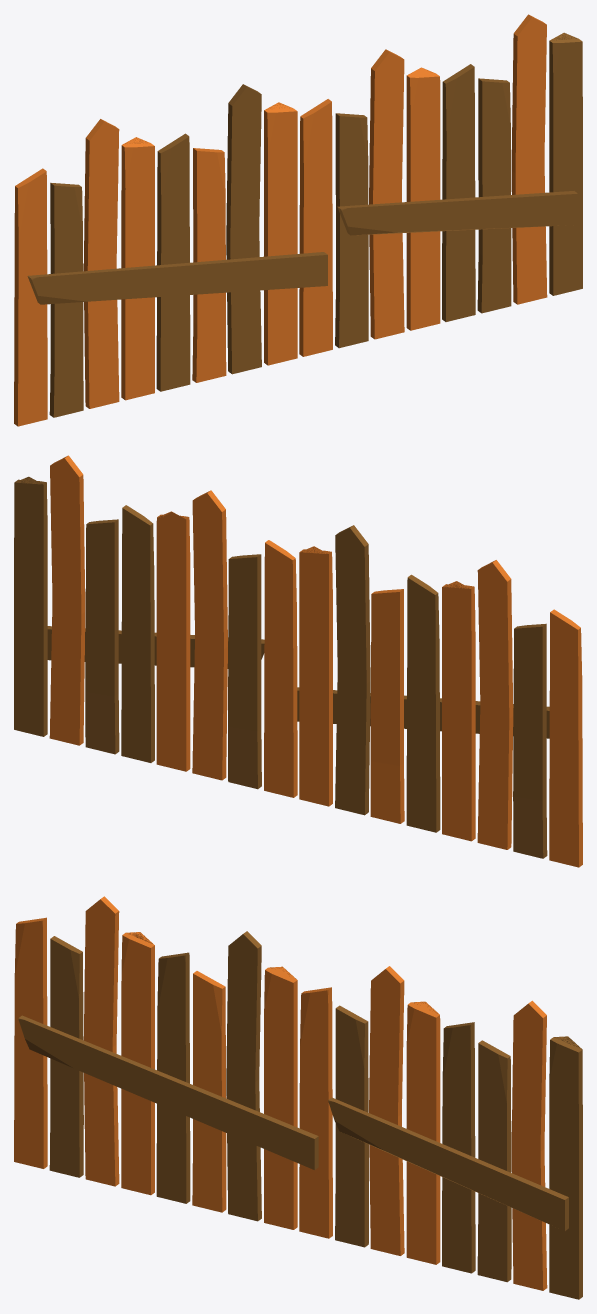
Rendered from Fences.fbx.
The picture shows the model from 3 angles, top to bottom: view 1: azimuth 30°, elevation 25°; view 2: azimuth 150°, elevation 25°; view 3: azimuth 330°, elevation 25°; orthographic projection.
Visible parts, largest first — view 1: Fences; view 2: Fences; view 3: Fences.
Boxes of the visible parts, x1=… form: Fences: x1=14, y1=14, x2=582, y2=426; Fences: x1=14, y1=455, x2=582, y2=867; Fences: x1=14, y1=896, x2=582, y2=1299.
Bounding box in the file's own units: 571 × 274 × 15.16.
